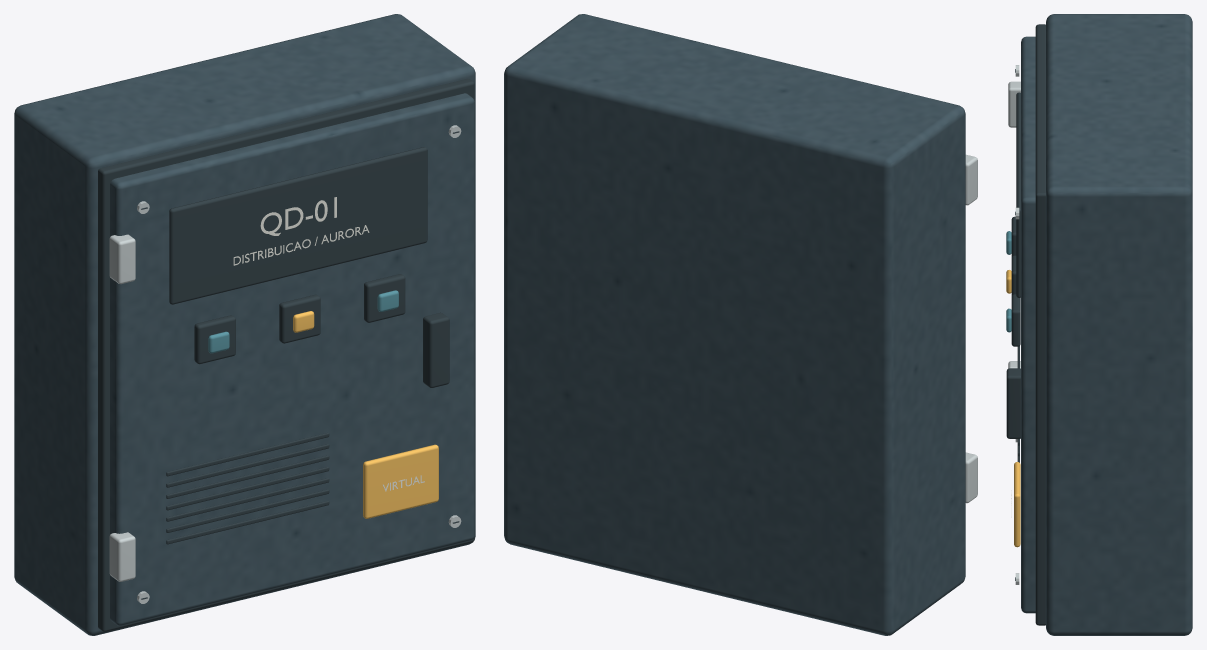
3 views of the same model, side by side, from view 1: azimuth 30°, elevation 25°; view 2: azimuth 150°, elevation 25°; view 3: azimuth 270°, elevation 25° (orthographic). The views are drawn at different scales.
Visible parts, largest first — view 1: Door, Housing, Label plate, Door gasket, Caution plate, Lock handle, Status bezel, Status bezel.001, Status bezel.002, Hinge, Hinge.001, Vent slot.002 (+7 smaller); view 2: Housing; view 3: Housing, Door, Door gasket, Lock handle, Label plate, Caution plate, Status bezel.002, Hinge.001.
Boxes of the visible parts, x1,y1,x2,y2 form: Door: (110,93,474,625); Housing: (14,14,475,635); Label plate: (169,147,427,304); Door gasket: (98,78,474,631); Caution plate: (363,444,438,518); Lock handle: (423,312,449,387); Status bezel: (194,315,235,364); Status bezel.001: (279,294,320,343); Status bezel.002: (364,274,405,322); Hinge: (109,532,135,581); Hinge.001: (109,234,135,283); Vent slot.002: (166,455,329,498); Housing: (504,14,965,635); Housing: (1046,14,1192,635); Door: (1021,36,1035,613); Door gasket: (1035,24,1045,625); Lock handle: (1006,368,1020,438); Label plate: (1016,92,1020,297); Caution plate: (1014,462,1020,547); Status bezel.002: (1011,294,1020,346); Hinge.001: (1008,81,1020,127).
Bounding box in the file's own units: 115 × 135 × 50.8.
6 materials, 1 textured.
